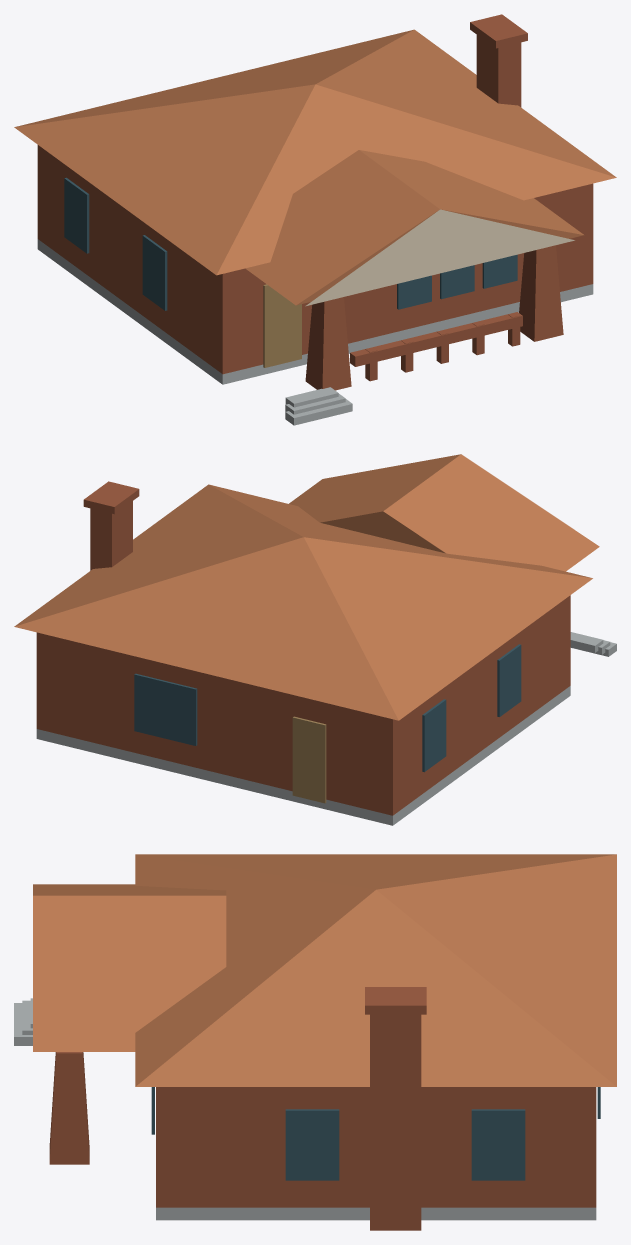
The model's file is bungalow-californian.glb.
3 renders of one model, top to bottom at view 1: azimuth 30°, elevation 25°; view 2: azimuth 150°, elevation 25°; view 3: azimuth 270°, elevation 25°, orthographic. The views are drawn at different scales.
Visible parts, largest first — view 1: roof-main-hip, bungalow-brick-host, roof-front-gable, front-gable-face, ground-contact-plinth, porch-pier-01, porch-pier-02, opening-front-door, bungalow-chimney-shaft, porch-balustrade-rail, opening-west-casement-01, opening-west-casement-02 (+6 smaller); view 2: roof-main-hip, bungalow-brick-host, roof-front-gable, ground-contact-plinth, opening-rear-casement, opening-rear-door, bungalow-chimney-shaft, opening-west-casement-01, opening-west-casement-02, bungalow-chimney-cap; view 3: roof-main-hip, bungalow-brick-host, roof-front-gable, bungalow-chimney-shaft, ground-contact-plinth, porch-pier-02, opening-east-casement-01, opening-east-casement-02, bungalow-chimney-cap.
Boxes of the visible parts, x1=… form: roof-main-hip: x1=14, y1=29, x2=616, y2=275; bungalow-brick-host: x1=37, y1=145, x2=593, y2=374; roof-front-gable: x1=245, y1=150, x2=584, y2=305; front-gable-face: x1=305, y1=209, x2=574, y2=306; ground-contact-plinth: x1=37, y1=239, x2=593, y2=384; porch-pier-01: x1=305, y1=297, x2=351, y2=390; porch-pier-02: x1=519, y1=245, x2=563, y2=341; opening-front-door: x1=263, y1=284, x2=301, y2=367; bungalow-chimney-shaft: x1=476, y1=35, x2=521, y2=107; porch-balustrade-rail: x1=350, y1=312, x2=522, y2=366; opening-west-casement-01: x1=64, y1=177, x2=89, y2=253; opening-west-casement-02: x1=142, y1=235, x2=167, y2=310; roof-main-hip: x1=14, y1=484, x2=592, y2=720; bungalow-brick-host: x1=36, y1=595, x2=570, y2=815; roof-front-gable: x1=289, y1=454, x2=599, y2=571; ground-contact-plinth: x1=36, y1=686, x2=570, y2=825; opening-rear-casement: x1=134, y1=673, x2=197, y2=745; opening-rear-door: x1=292, y1=716, x2=326, y2=803; bungalow-chimney-shaft: x1=90, y1=501, x2=132, y2=570; opening-west-casement-01: x1=422, y1=699, x2=446, y2=772; opening-west-casement-02: x1=497, y1=644, x2=521, y2=716; bungalow-chimney-cap: x1=83, y1=481, x2=139, y2=514; roof-main-hip: x1=135, y1=854, x2=616, y2=1086; bungalow-brick-host: x1=156, y1=1087, x2=596, y2=1207; roof-front-gable: x1=33, y1=884, x2=226, y2=1051; bungalow-chimney-shaft: x1=370, y1=1014, x2=421, y2=1230; ground-contact-plinth: x1=156, y1=1207, x2=596, y2=1220; porch-pier-02: x1=49, y1=1052, x2=89, y2=1164; opening-east-casement-01: x1=471, y1=1109, x2=525, y2=1180; opening-east-casement-02: x1=285, y1=1109, x2=339, y2=1180; bungalow-chimney-cap: x1=365, y1=987, x2=426, y2=1014.
Size of the model in its own units: 11.45 by 5.13 by 12.32.
